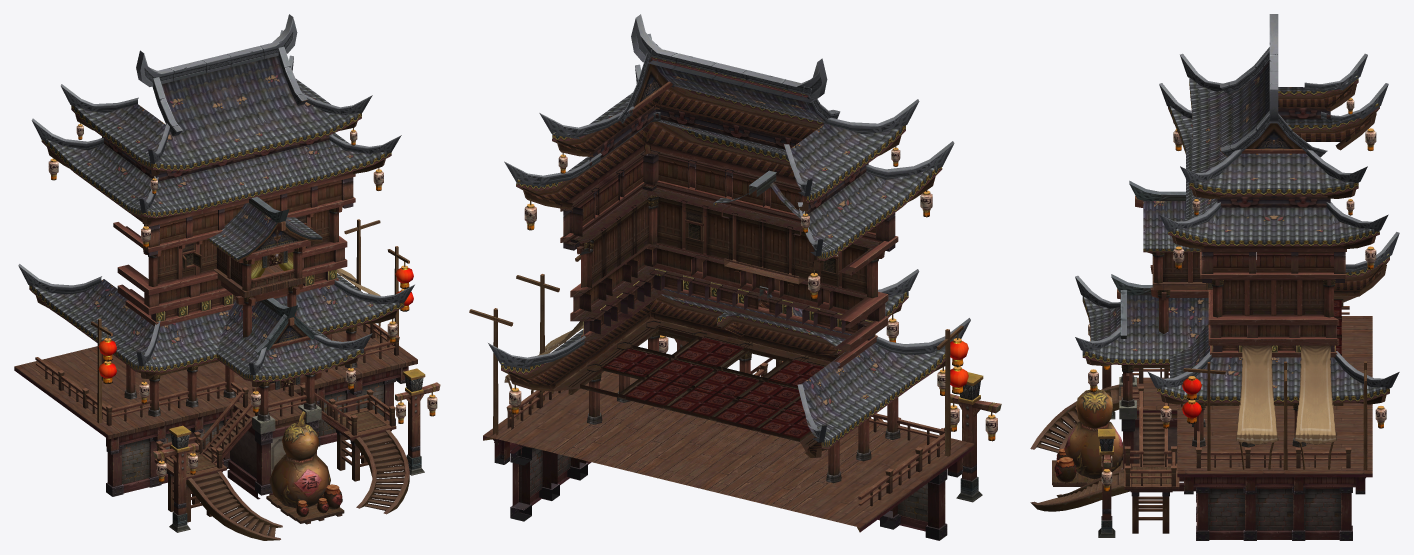
Rendered from MainRestaurant.fbx.
3 views of the same model, side by side, from view 1: azimuth 30°, elevation 25°; view 2: azimuth 150°, elevation 25°; view 3: azimuth 270°, elevation 25° (orthographic). The views are drawn at different scales.
Visible parts, largest first — view 1: MainRestaurant; view 2: MainRestaurant; view 3: MainRestaurant.
Boxes of the visible parts, x1=… form: MainRestaurant: x1=14, y1=14, x2=440, y2=540; MainRestaurant: x1=469, y1=14, x2=1001, y2=540; MainRestaurant: x1=1030, y1=14, x2=1399, y2=540.
Size of the model in its own units: 1032 by 1258 by 976.
